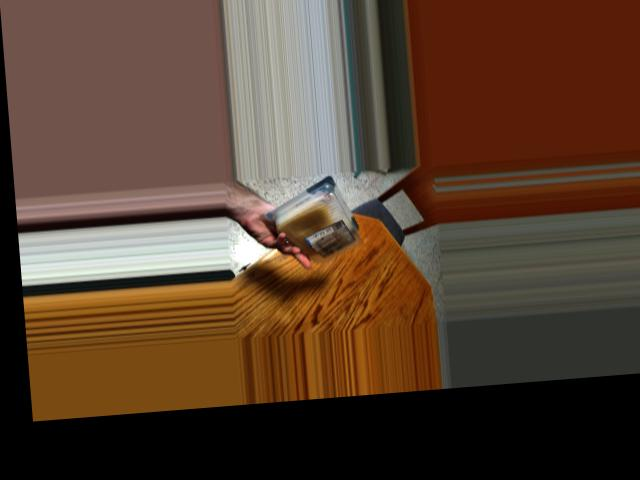cheese: (263, 180, 362, 253)
